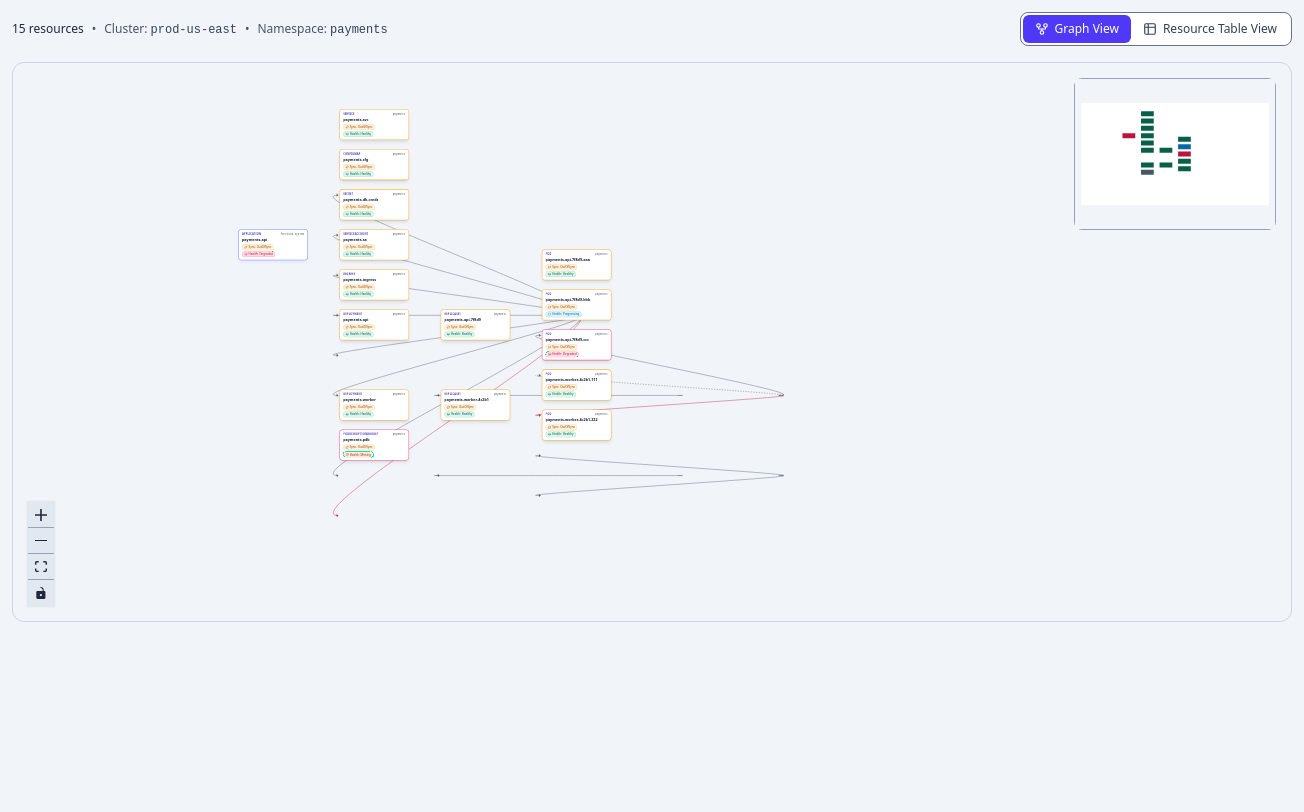
Test: ResourceGraph & dagre layout (T16.3 & Trap Guard T16.3) › resets the kind filter when a poll removes every node of the filtered kind (H2)
This screenshot has width=1304, height=812.
Later steps or results of the test are not shown.
Click the button "Resource Table View".
click(1210, 29)  # box [1131, 15, 1289, 43]
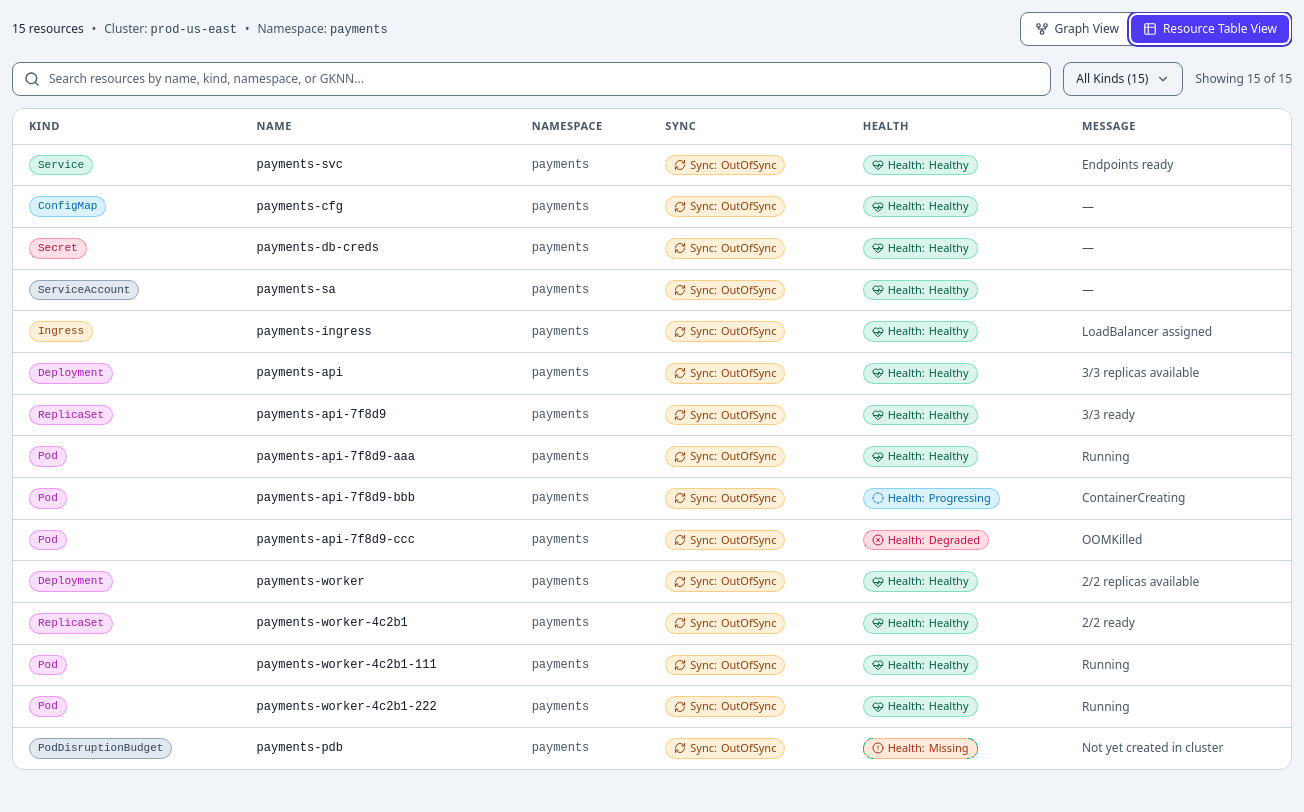
Click the dropdown named "Filter by resource kind".
click(1123, 79)  # box [1063, 62, 1183, 96]
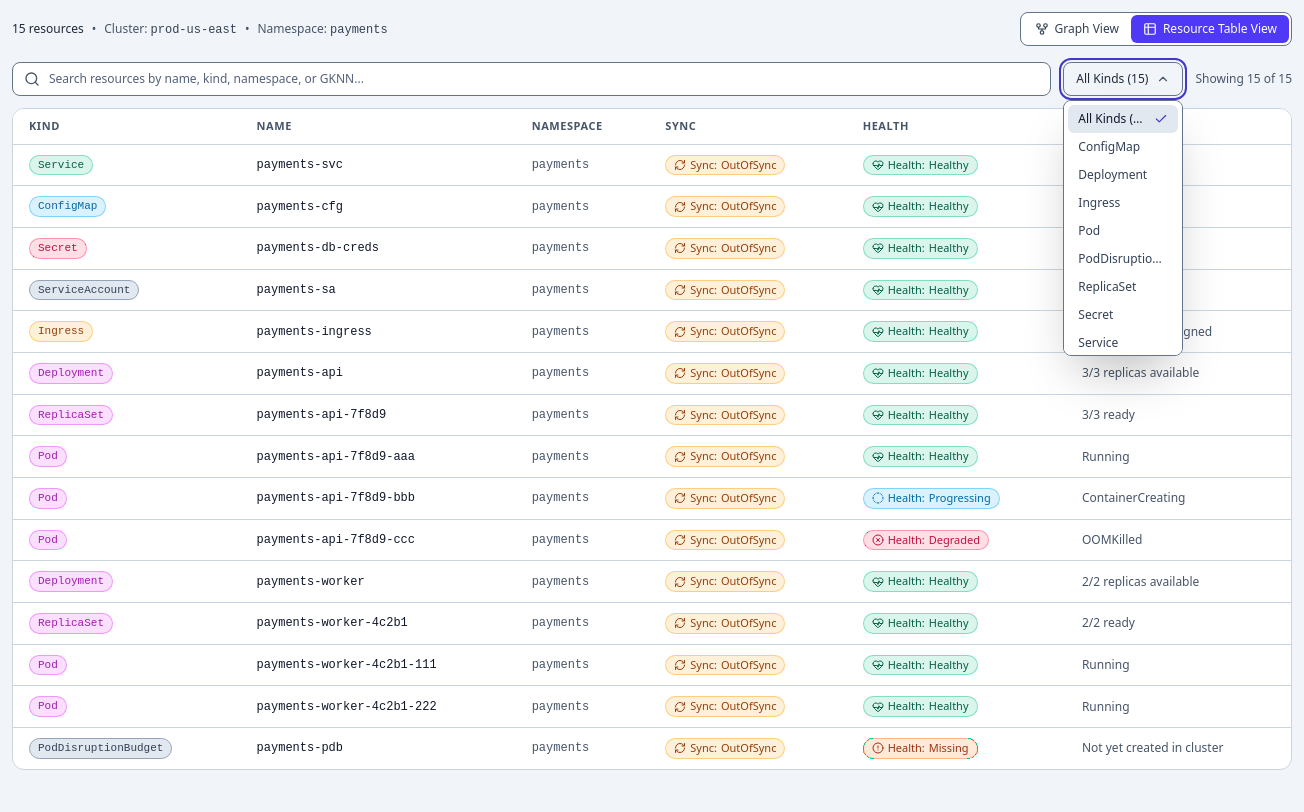
Click the option "Pod".
click(1089, 230)  # box [1078, 222, 1100, 239]
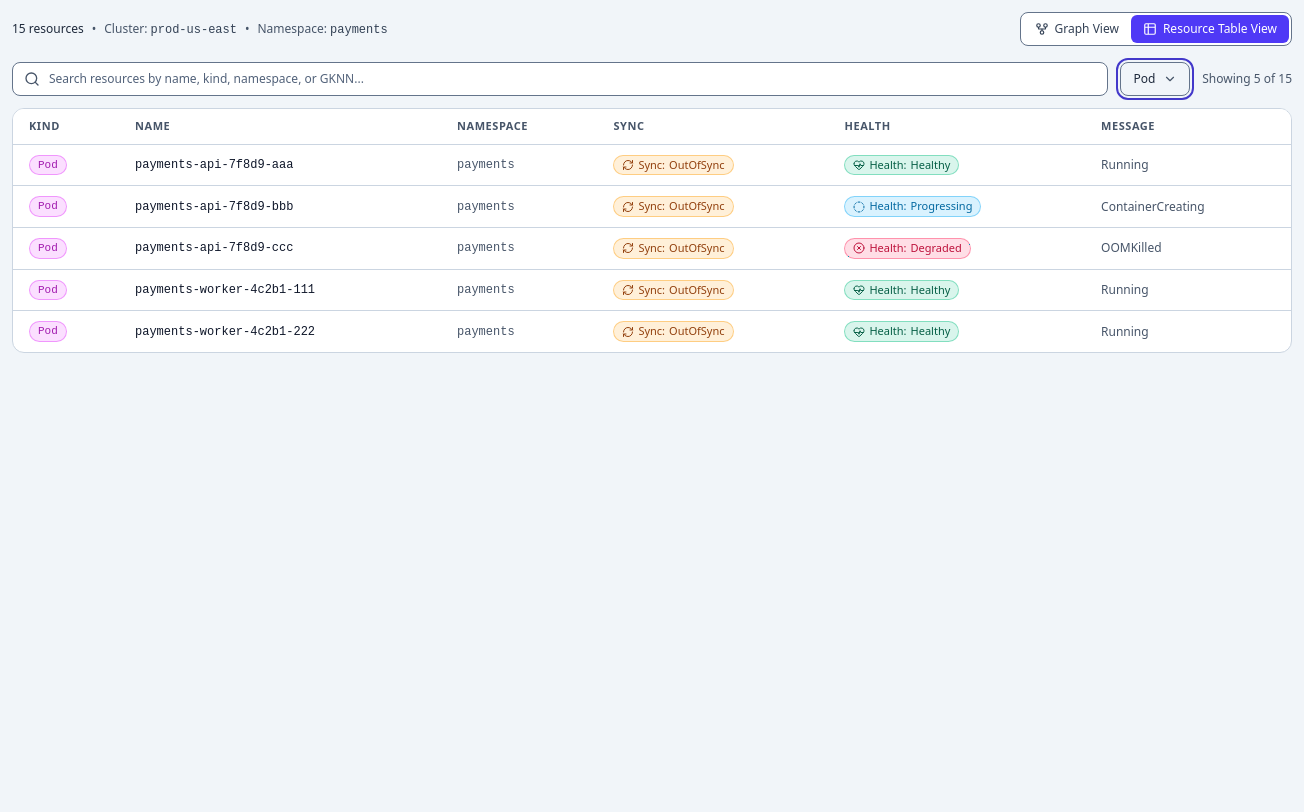
Expected: the text "Showing 5 of 15" is shown, [1202, 71, 1292, 87]
